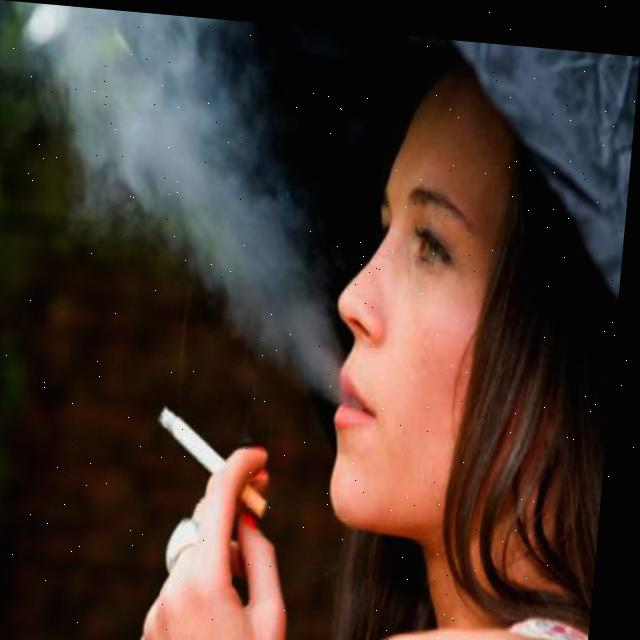cigarette: (158, 401, 283, 510)
